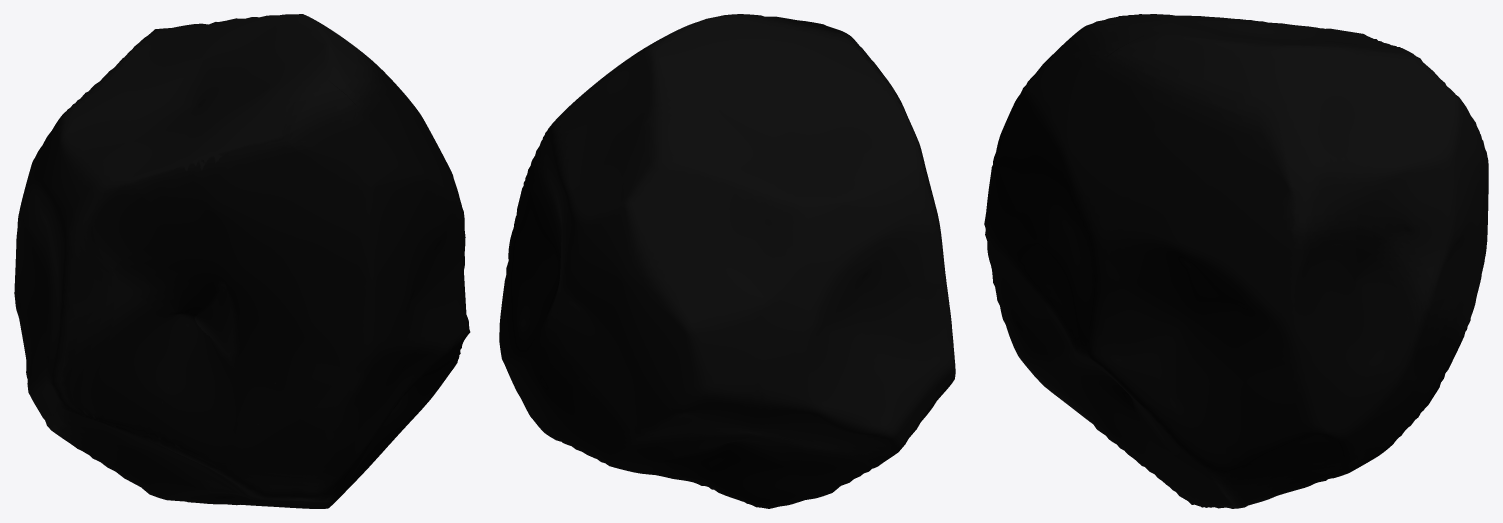
File: coal.fbx
The picture shows the model from 3 angles, left to right: view 1: azimuth 30°, elevation 25°; view 2: azimuth 150°, elevation 25°; view 3: azimuth 270°, elevation 25°; orthographic projection. The views are drawn at different scales.
Visible parts, largest first — view 1: Esfera icosaédrica; view 2: Esfera icosaédrica; view 3: Esfera icosaédrica.
Part boxes in pixels (left/top/right/bottom): Esfera icosaédrica: left=14, top=14, right=470, bottom=508; Esfera icosaédrica: left=499, top=14, right=955, bottom=508; Esfera icosaédrica: left=984, top=14, right=1488, bottom=508.
Size of the model in its own units: 125 by 132 by 129.
1 material, 1 textured.
